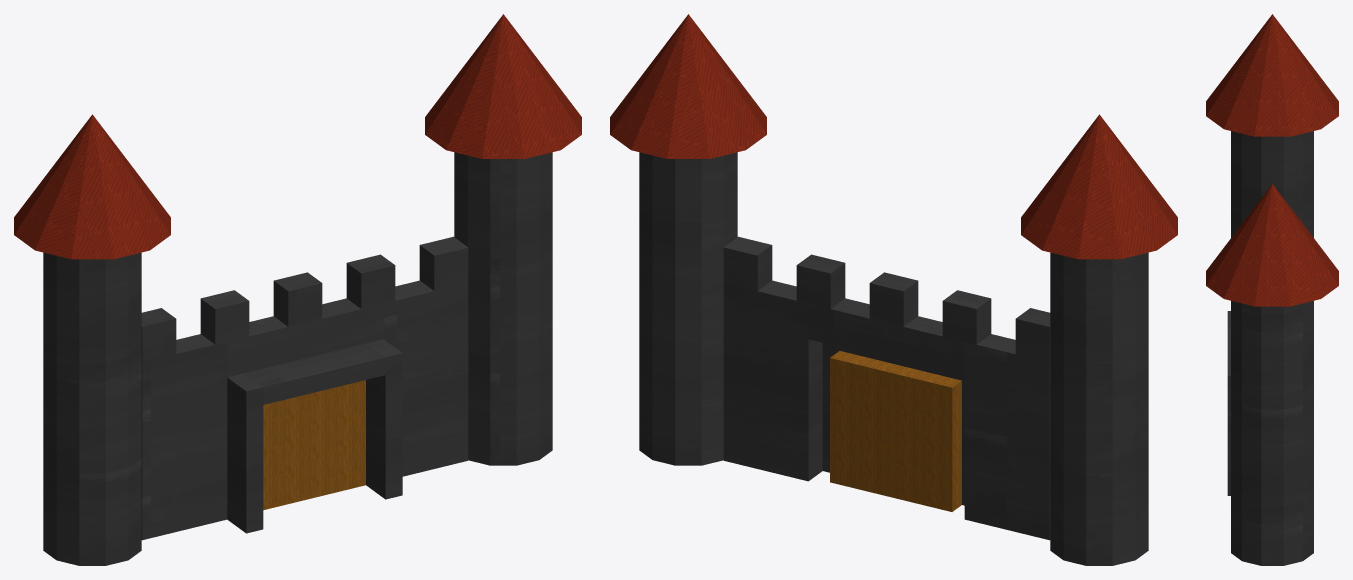
File: Chateaux.fbx
3 renders of one model, left to right at view 1: azimuth 30°, elevation 25°; view 2: azimuth 150°, elevation 25°; view 3: azimuth 270°, elevation 25°, orthographic. The views are drawn at different scales.
Parts seen in each view (by area): view 1: cuboid; view 2: cuboid; view 3: cuboid.
Boxes of the visible parts, left/top/right/bottom form: cuboid: left=14, top=14, right=581, bottom=565; cuboid: left=610, top=14, right=1177, bottom=565; cuboid: left=1206, top=14, right=1338, bottom=565.
Bounding box in the file's own units: 2012 × 1516 × 500.
Materials: 3 (3 with a texture image).
